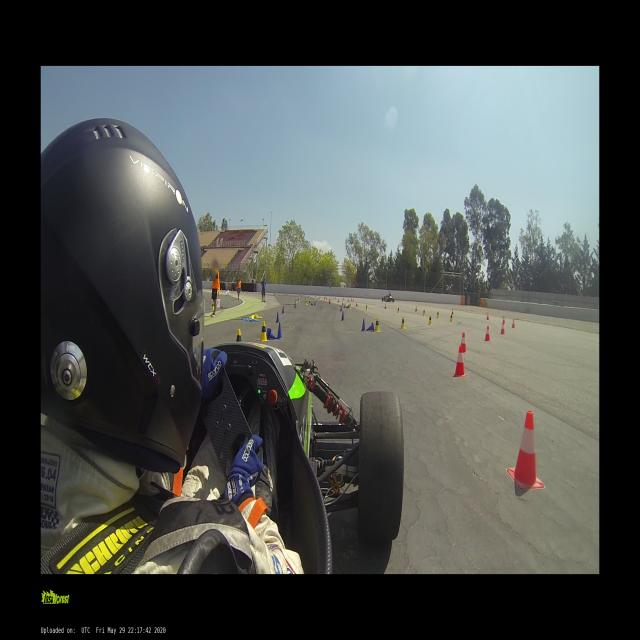blue_cone: (276, 322, 283, 340), (267, 328, 276, 339), (366, 322, 374, 332), (360, 318, 366, 331), (275, 312, 280, 322), (340, 311, 344, 320), (281, 305, 285, 314), (293, 302, 297, 308), (339, 305, 342, 311)
orange_cone: (507, 410, 544, 488), (452, 346, 468, 376), (458, 332, 468, 353), (483, 326, 491, 342), (500, 322, 505, 334), (511, 319, 515, 329), (502, 316, 506, 324), (486, 312, 489, 320), (355, 301, 358, 307), (341, 300, 344, 306), (384, 304, 387, 309), (451, 309, 454, 314), (329, 299, 331, 304), (415, 306, 417, 311)
yellow_cone: (258, 321, 269, 342), (374, 317, 380, 332), (399, 316, 406, 328), (427, 315, 433, 325), (237, 329, 241, 342), (449, 314, 453, 322), (436, 310, 440, 318), (211, 302, 215, 310), (348, 303, 352, 309), (422, 309, 425, 316), (365, 304, 368, 310), (397, 307, 400, 313), (308, 300, 311, 305), (305, 300, 307, 305)
